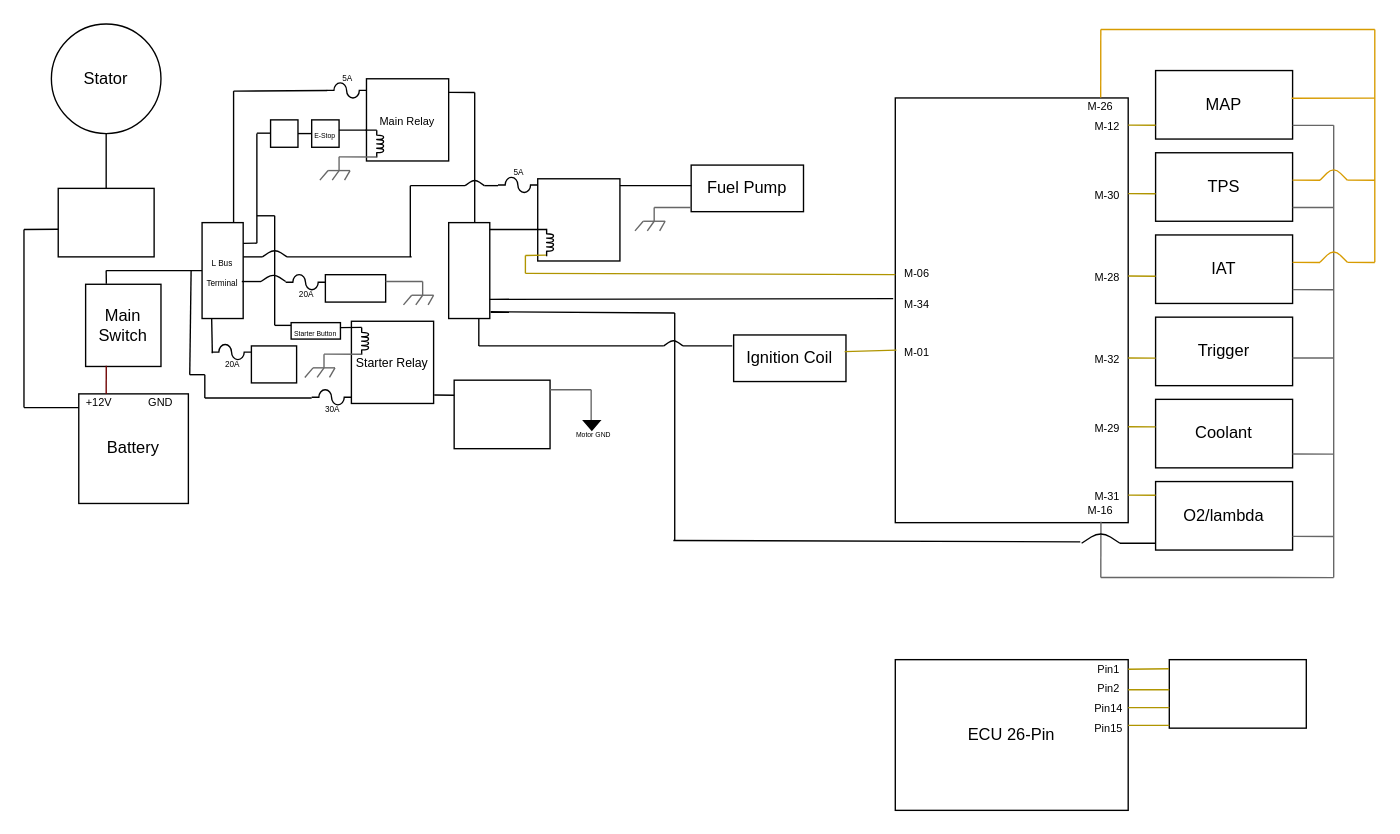
Image size: 1400x834. Some labels were removed from this diagram. The centre of each missing label's shape, as x and y in pixels:
"BOTS" goes at [283,133].
"Break pressure" goes at [273,364].
"Ethernet" goes at [1237,693].
"Pump Relay" goes at [578,219].
"R Bus Terminal" goes at [468,270].
"Starter Motor" goes at [501,414].
"Transponder" goes at [355,287].
"Voltage Regulator" goes at [105,222].
